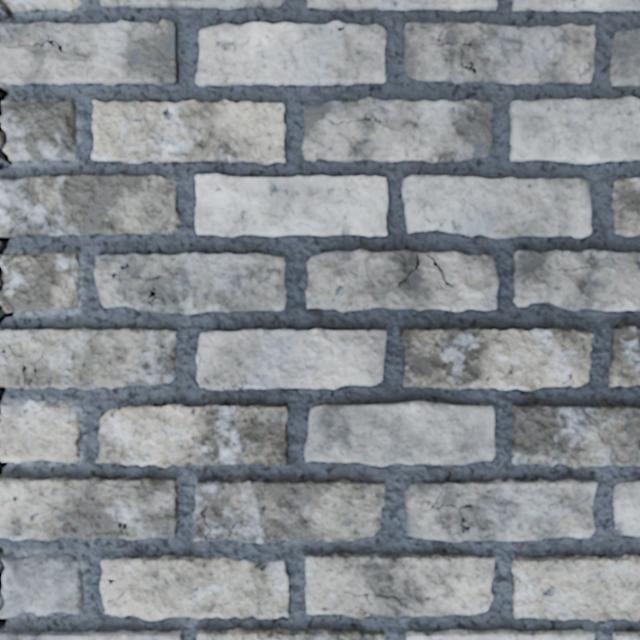brick: (303, 97, 492, 162), (92, 100, 285, 163), (196, 21, 385, 85), (305, 401, 494, 465), (193, 479, 384, 542), (306, 553, 494, 617), (306, 249, 498, 311), (101, 556, 288, 619), (97, 404, 287, 466), (402, 176, 590, 238), (196, 174, 387, 235), (403, 22, 594, 83), (405, 479, 596, 540), (401, 328, 592, 389), (95, 253, 285, 313), (0, 20, 176, 84), (198, 329, 385, 388), (0, 477, 177, 539), (0, 175, 179, 235), (0, 328, 176, 388), (510, 97, 639, 162), (513, 555, 639, 620), (512, 404, 639, 466), (514, 250, 639, 310), (198, 628, 385, 639), (308, 0, 496, 10), (407, 629, 593, 639), (610, 326, 639, 385), (611, 29, 639, 84), (613, 178, 639, 235), (100, 0, 283, 8), (0, 631, 180, 639), (613, 481, 639, 535), (513, 0, 639, 10), (0, 347, 22, 387), (197, 368, 221, 389), (614, 632, 639, 639)
broken_brick: (0, 551, 84, 618), (0, 399, 82, 463), (0, 253, 80, 312), (2, 100, 76, 162), (5, 0, 81, 12)
crack: (0, 196, 40, 259), (0, 343, 44, 388), (197, 354, 248, 390), (0, 83, 12, 170), (226, 500, 252, 539), (199, 498, 212, 541), (91, 478, 140, 488), (0, 546, 5, 611), (0, 304, 14, 323), (0, 0, 13, 19), (101, 577, 116, 590), (0, 385, 5, 423), (0, 266, 5, 292), (0, 459, 7, 476), (336, 23, 349, 31), (0, 617, 6, 631), (353, 611, 372, 615), (358, 0, 362, 5), (0, 440, 1, 449)
